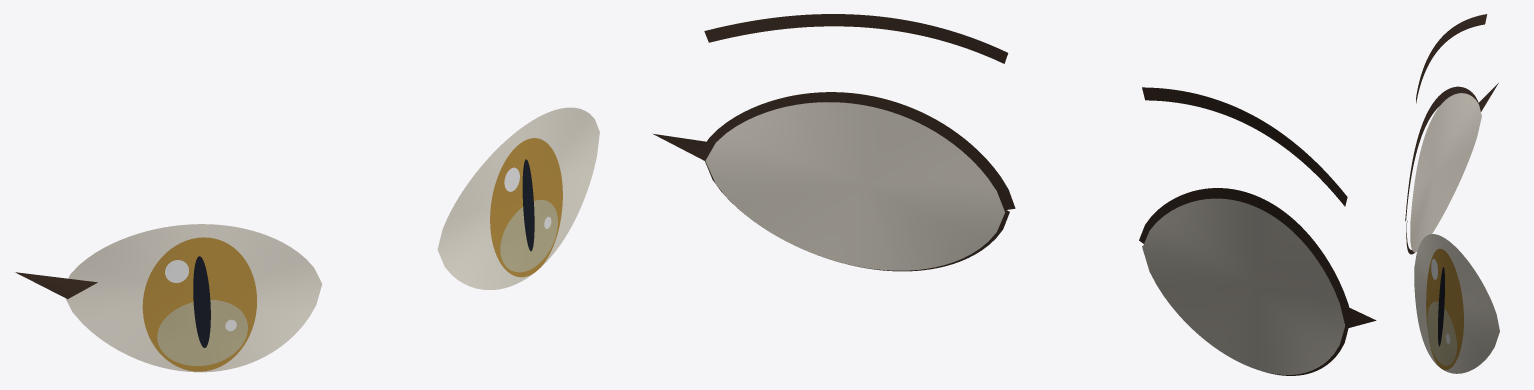
3 renders of one model, left to right at view 1: azimuth 30°, elevation 25°; view 2: azimuth 150°, elevation 25°; view 3: azimuth 270°, elevation 25°, orthographic. The views are drawn at different scales.
Visible parts, largest first — view 1: Eye_White_-1, Eye_White_1, Eye_Iris_-1, Eye_Iris_1, Eye_Iris_Light_-1, Eye_Iris_Light_1, Eye_Pupil_-1, Eye_LashWing_-1, Eye_Pupil_1; view 2: Eye_White_1, Eye_White_-1, Eye_UpperLid_1, Eyebrow_1, Eye_UpperLid_-1, Eyebrow_-1; view 3: Eye_White_-1, Eye_White_1, Eye_Iris_1, Eye_Iris_Light_1, Eye_UpperLid_-1, Eyebrow_-1, Eye_Pupil_1, Eye_LashWing_-1, Eye_Glint_1_0.
Part boxes in pixels (x1,y1,x2,y2): Eye_White_-1: (65, 224, 322, 372); Eye_White_1: (437, 107, 599, 289); Eye_Iris_-1: (142, 237, 256, 371); Eye_Iris_1: (490, 138, 562, 277); Eye_Iris_Light_-1: (157, 300, 247, 366); Eye_Iris_Light_1: (500, 200, 557, 272); Eye_Pupil_-1: (193, 256, 210, 347); Eye_LashWing_-1: (15, 272, 97, 299); Eye_Pupil_1: (522, 159, 534, 251); Eye_White_1: (705, 102, 1004, 270); Eye_White_-1: (1142, 198, 1344, 374); Eye_UpperLid_1: (699, 92, 1015, 209); Eyebrow_1: (704, 14, 1008, 63); Eye_UpperLid_-1: (1139, 188, 1352, 323); Eyebrow_-1: (1142, 87, 1347, 206); Eye_White_-1: (1410, 93, 1481, 252); Eye_White_1: (1414, 234, 1499, 373); Eye_Iris_1: (1426, 248, 1463, 369); Eye_Iris_Light_1: (1427, 301, 1456, 365); Eye_UpperLid_-1: (1405, 86, 1478, 221); Eyebrow_-1: (1416, 14, 1487, 103); Eye_Pupil_1: (1438, 267, 1444, 346); Eye_LashWing_-1: (1478, 83, 1498, 111); Eye_Glint_1_0: (1431, 258, 1437, 279).
Bounding box in the file's own units: 0.4435 × 0.1637 × 0.0822.
